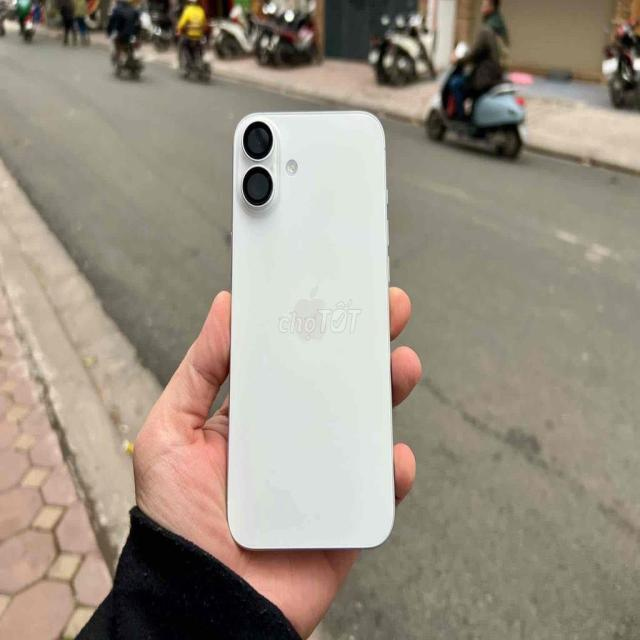gen_16: (218, 97, 398, 555)
